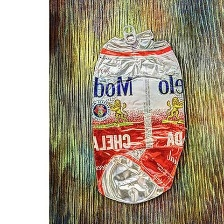can: (84, 23, 189, 207)
